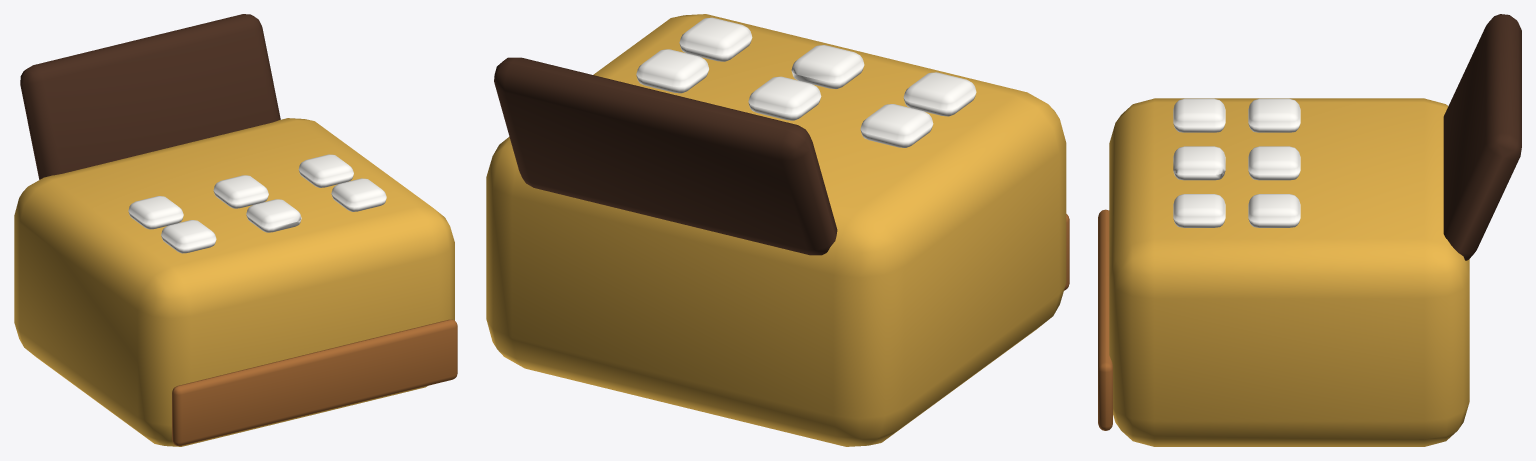
Rendered from caisse.glb.
3 renders of one model, left to right at view 1: azimuth 30°, elevation 25°; view 2: azimuth 150°, elevation 25°; view 3: azimuth 270°, elevation 25°, orthographic. The views are drawn at different scales.
Parts seen in each view (by area): view 1: corps, ecran, tiroir, touche0, touche2, touche4, touche1, touche3, touche5; view 2: corps, ecran, touche0, touche4, touche5, touche2, touche3, touche1; view 3: corps, ecran, tiroir, touche1, touche0, touche3, touche4, touche2, touche5.
Part boxes in pixels (<box>): corps: <box>14,118,454,446</box>; ecran: <box>20,14,280,179</box>; tiroir: <box>172,319,457,446</box>; touche0: <box>161,220,216,253</box>; touche2: <box>331,178,386,211</box>; touche4: <box>213,175,268,208</box>; touche1: <box>246,199,301,232</box>; touche3: <box>128,196,183,229</box>; touche5: <box>298,154,353,187</box>; corps: <box>486,14,1066,446</box>; ecran: <box>494,57,837,255</box>; touche0: <box>903,72,976,116</box>; touche4: <box>748,76,821,120</box>; touche5: <box>636,49,708,93</box>; touche2: <box>679,17,752,61</box>; touche3: <box>860,104,933,147</box>; touche1: <box>791,45,864,88</box>; corps: <box>1109,98,1469,446</box>; ecran: <box>1443,14,1521,260</box>; tiroir: <box>1098,209,1112,430</box>; touche1: <box>1173,146,1225,180</box>; touche0: <box>1173,98,1225,132</box>; touche3: <box>1248,98,1300,132</box>; touche4: <box>1248,146,1300,180</box>; touche2: <box>1173,194,1225,227</box>; touche5: <box>1248,194,1300,227</box>.
Size of the model in its own units: 0.55 by 0.4418 by 0.5647.
